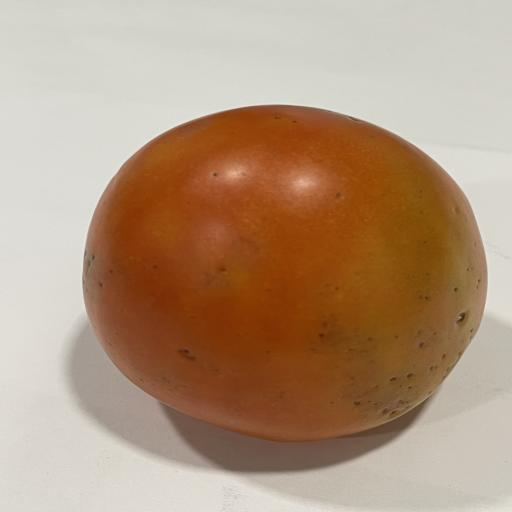unripe: (82, 105, 487, 441)
